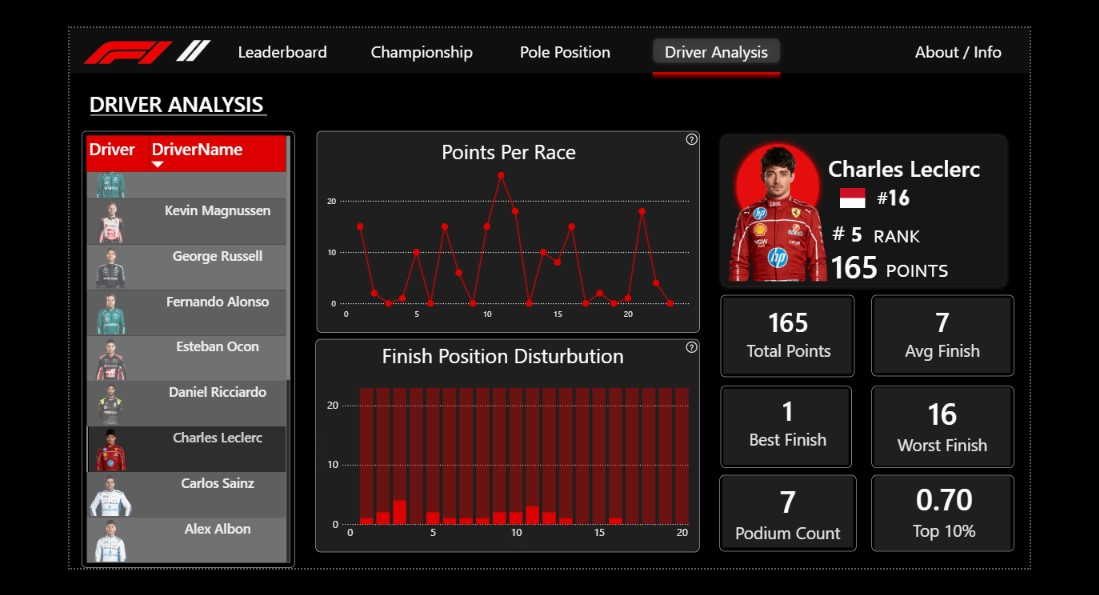

The page's visual inventory and layout, read from the dashboard file:
{"tool":"powerbi","page":{"name":"Driver Analysis","canvas":[1920,1080],"ordinal":4},"visuals":[{"type":"group","id":"g1","title":"driver performance","box":[1280,205,626,320],"z":0},{"type":"shape","box":[1294.8,205,587.2,320],"z":0,"group":"g1"},{"type":"cardVisual","title":"points","fields":{"Data":["Drivers.DA_TotalPoints"]},"box":[1302.7,534,268,164],"z":0,"group":"g2"},{"type":"cardVisual","fields":{"Data":["Teams.DA_DriverRank"]},"box":[1520.5,360.2,109.9,98],"z":1000,"group":"g1"},{"type":"group","id":"g2","title":"Driver Info ","box":[1300,534,588,514],"z":1000},{"type":"cardVisual","title":"avg finish","fields":{"Data":["Drivers.DA_AvgFinish"]},"box":[1603.6,534,284.4,162.2],"z":1000,"group":"g2"},{"type":"tableEx","fields":{"Values":["Drivers.Driver","Drivers.DriverName"]},"box":[23.3,206.7,426.7,873.3],"z":2000},{"type":"shape","box":[1322.4,219.9,188.7,194.1],"z":2000,"group":"g1"},{"type":"cardVisual","title":"best finish","fields":{"Data":["Drivers.DA_BestFinish"]},"box":[1302.7,716.3,262.5,164],"z":2000,"group":"g2"},{"type":"image","title":"driver","box":[1280,211.4,275.6,313.6],"z":3000,"group":"g1"},{"type":"clusteredColumnChart","title":"Finish Position Disturbution","fields":{"Category":["Results.Position"],"Y":["Races.FinishCount"]},"box":[492,622,768,426],"z":3000},{"type":"cardVisual","title":"worst finish","fields":{"Data":["Drivers.DA_WorstFinish"]},"box":[1603.6,716.3,284.4,164],"z":3000,"group":"g2"},{"type":"lineChart","title":"Points Per Race","fields":{"Category":["Races.Round"],"Y":["Results.TotalPoints"]},"box":[493.3,206.7,766.7,403.3],"z":4000},{"type":"cardVisual","title":"driver name","fields":{"Data":["Drivers.DriverName_Measure"]},"box":[1482,241,424,72],"z":4000,"group":"g1"},{"type":"cardVisual","title":"podium finish","fields":{"Data":["Drivers.DA_PodiumCount"]},"box":[1300,894.9,273.5,153.1],"z":4000,"group":"g2"},{"type":"textbox","title":"Driver Analysis","box":[34,116,370,68],"z":5000},{"type":"image","title":"flag","box":[1527.8,319.2,75.9,40.1],"z":5000,"group":"g1"},{"type":"cardVisual","title":"top10","fields":{"Data":["Drivers.DA_Top10Percent"]},"box":[1603.6,894.9,284.4,153.1],"z":5000,"group":"g2"},{"type":"shape","box":[34.2,158.3,369.2,32.5],"z":6000},{"type":"cardVisual","title":"driver number","fields":{"Data":["Drivers.DriverNumber_Measure"]},"box":[1599.7,308.9,137.4,56.3],"z":6000,"group":"g1"},{"type":"group","id":"g3","title":"Header","box":[0,0,1920,108.6],"z":7000},{"type":"shape","box":[0,0,1920,90],"z":8000,"group":"g3"},{"type":"actionButton","box":[1227.1,205.7,52.9,32.9],"z":8000},{"type":"cardVisual","title":"points","fields":{"Data":["Teams.DA_Points"]},"box":[1488.6,436.9,184.9,71.3],"z":8000,"group":"g1"},{"type":"actionButton","title":"Championship button","box":[575.7,10,257.1,70],"z":9000,"group":"g3"},{"type":"textbox","box":[1621.9,456.8,146.3,62.9],"z":9000,"group":"g1"},{"type":"actionButton","box":[1227.5,622.5,52.5,32.5],"z":9000},{"type":"actionButton","title":"Pole position button","box":[874.3,10,234.3,70],"z":10000,"group":"g3"},{"type":"textbox","box":[1591.2,386.7,126.3,62.2],"z":10000,"group":"g1"},{"type":"actionButton","title":"driver analysis","box":[1155,10,275,70],"z":11000,"group":"g3"},{"type":"textbox","box":[1519.8,375.9,49.2,70.8],"z":11000,"group":"g1"},{"type":"actionButton","title":"About button","box":[1660,10,235,70],"z":12000,"group":"g3"},{"type":"textbox","box":[1609.7,308,51.4,62.9],"z":12000,"group":"g1"},{"type":"image","box":[200,0,92.5,90],"z":13000,"group":"g3"},{"type":"shape","box":[1155.7,71.4,275.7,37.1],"z":14000,"group":"g3"},{"type":"actionButton","title":"Leadership Button","box":[298,10,256,70],"z":15000,"group":"g3"},{"type":"image","box":[24.7,0,186.5,97.5],"z":15500,"group":"g3"}]}

Visuals, with their boxes on the page's 1920x1080 design canvas (x1, y1, x2, y2). These are canvas units, not pixel positions in the 1099x595 screenshot, which may show the page scaled, cropped or inside an application window:
"driver performance" group: BBox(1280, 205, 1906, 525)
shape: BBox(1295, 205, 1882, 525)
"points" cardVisual: BBox(1303, 534, 1571, 698)
cardVisual - Teams.DA_DriverRank: BBox(1520, 360, 1630, 458)
"Driver Info " group: BBox(1300, 534, 1888, 1048)
"avg finish" cardVisual: BBox(1604, 534, 1888, 696)
tableEx - Drivers.Driver x Drivers.DriverName: BBox(23, 207, 450, 1080)
shape: BBox(1322, 220, 1511, 414)
"best finish" cardVisual: BBox(1303, 716, 1565, 880)
"driver" image: BBox(1280, 211, 1556, 525)
"Finish Position Disturbution" clusteredColumnChart: BBox(492, 622, 1260, 1048)
"worst finish" cardVisual: BBox(1604, 716, 1888, 880)
"Points Per Race" lineChart: BBox(493, 207, 1260, 610)
"driver name" cardVisual: BBox(1482, 241, 1906, 313)
"podium finish" cardVisual: BBox(1300, 895, 1574, 1048)
"Driver Analysis" textbox: BBox(34, 116, 404, 184)
"flag" image: BBox(1528, 319, 1604, 359)
"top10" cardVisual: BBox(1604, 895, 1888, 1048)
shape: BBox(34, 158, 403, 191)
"driver number" cardVisual: BBox(1600, 309, 1737, 365)
"Header" group: BBox(0, 0, 1920, 109)
shape: BBox(0, 0, 1920, 90)
actionButton: BBox(1227, 206, 1280, 239)
"points" cardVisual: BBox(1489, 437, 1674, 508)
"Championship button" actionButton: BBox(576, 10, 833, 80)
textbox: BBox(1622, 457, 1768, 520)
actionButton: BBox(1228, 622, 1280, 655)
"Pole position button" actionButton: BBox(874, 10, 1109, 80)
textbox: BBox(1591, 387, 1718, 449)
"driver analysis" actionButton: BBox(1155, 10, 1430, 80)
textbox: BBox(1520, 376, 1569, 447)
"About button" actionButton: BBox(1660, 10, 1895, 80)
textbox: BBox(1610, 308, 1661, 371)
image: BBox(200, 0, 292, 90)
shape: BBox(1156, 71, 1431, 108)
"Leadership Button" actionButton: BBox(298, 10, 554, 80)
image: BBox(25, 0, 211, 98)
